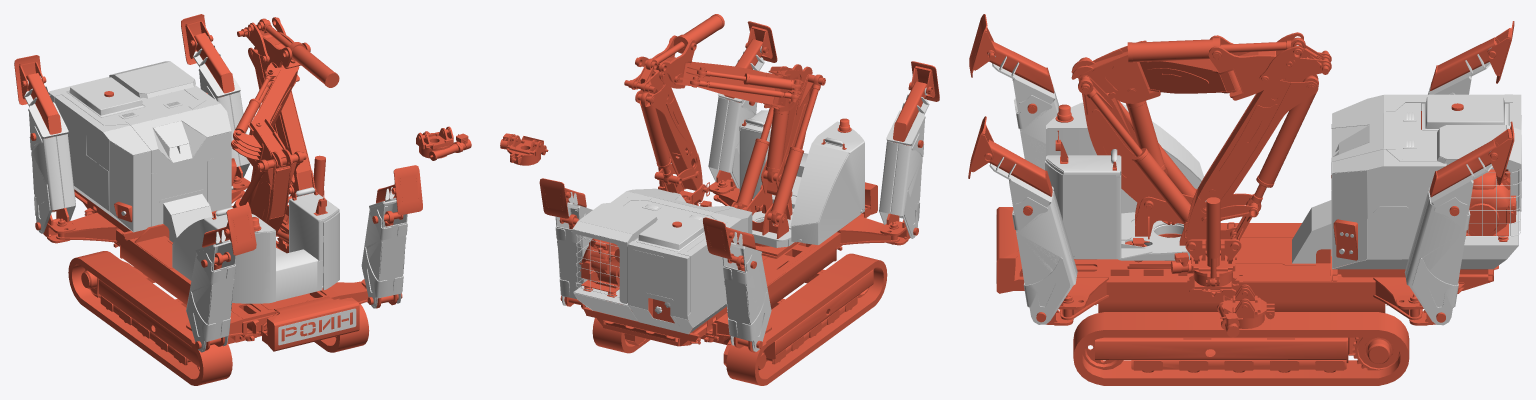
The model's file is robot.fbx.
3 views of the same model, side by side, from view 1: azimuth 30°, elevation 25°; view 2: azimuth 150°, elevation 25°; view 3: azimuth 270°, elevation 25° (orthographic). The views are drawn at different scales.
Parts seen in each view (by area): view 1: Ходовая робота ВГУ fixed, \xce\xef\xee\xf0\xe0 c\xf2\xf0\xe5\xeb\xfb fixed, Гусеница2 fixed, \u0111\u03ae105.100.510.007 fixed, \u0111\u03ae105.100.510.006 fixed, \u0111\u03ae105.100.510.005 fixed, \u0111\u03ae105.100.510.004 fixed, 2 fixed, \u0111\u03ae105.200.420.001 fixed, \u0111\u03ae105.200.330.001 fixed, \u0111\u03ae105.200.320.001 fixed, \u0111\u03ae105.100.591.004 fixed (+11 smaller); view 2: Ходовая робота ВГУ fixed, \xce\xef\xee\xf0\xe0 c\xf2\xf0\xe5\xeb\xfb fixed, Гусеница2 fixed, \u0111\u03ae105.100.510.006 fixed, \u0111\u03ae105.100.510.007 fixed, \u0111\u03ae105.100.510.005 fixed, \u0111\u03ae105.200.420.001 fixed, \u0111\u03ae105.100.510.004 fixed, \u0111\u03ae105.200.320.001 fixed, 2 fixed, 7 fixed, 15 fixed.001 (+19 smaller); view 3: Ходовая робота ВГУ fixed, Гусеница1 fixed, \xce\xef\xee\xf0\xe0 c\xf2\xf0\xe5\xeb\xfb fixed, \u0111\u03ae105.100.510.004 fixed, \u0111\u03ae105.100.510.005 fixed, \u0111\u03ae105.200.420.001 fixed, \u0111\u03ae105.100.510.006 fixed, 2 fixed, \u0111\u03ae105.200.320.001 fixed, \u0111\u03ae105.200.330.001 fixed, \u0111\u03ae105.200.310.001 fixed, \u0111\u03ae105.100.510.007 fixed (+22 smaller).
Part boxes in pixels (x1,y1,x2,y2): Ходовая робота ВГУ fixed: (48, 61, 368, 367); \xce\xef\xee\xf0\xe0 c\xf2\xf0\xe5\xeb\xfb fixed: (172, 187, 339, 303); Гусеница2 fixed: (68, 251, 232, 385); \u0111\u03ae105.100.510.007 fixed: (21, 73, 75, 233); \u0111\u03ae105.100.510.006 fixed: (186, 227, 236, 352); \u0111\u03ae105.100.510.005 fixed: (361, 184, 407, 308); \u0111\u03ae105.100.510.004 fixed: (189, 32, 250, 177); 2 fixed: (249, 152, 306, 233); \u0111\u03ae105.200.420.001 fixed: (248, 47, 315, 197); \u0111\u03ae105.200.330.001 fixed: (232, 119, 292, 169); \u0111\u03ae105.200.320.001 fixed: (249, 59, 299, 134); \u0111\u03ae105.100.591.004 fixed: (391, 165, 422, 215); Ходовая робота ВГУ fixed: (572, 180, 899, 369); \xce\xef\xee\xf0\xe0 c\xf2\xf0\xe5\xeb\xfb fixed: (731, 110, 864, 247); Гусеница2 fixed: (726, 253, 887, 385); \u0111\u03ae105.100.510.006 fixed: (879, 81, 931, 238); \u0111\u03ae105.100.510.007 fixed: (722, 227, 771, 351); \u0111\u03ae105.100.510.005 fixed: (708, 39, 767, 188); \u0111\u03ae105.200.420.001 fixed: (635, 84, 702, 190); \u0111\u03ae105.100.510.004 fixed: (555, 188, 592, 307); \u0111\u03ae105.200.320.001 fixed: (682, 61, 783, 106); 2 fixed: (761, 74, 825, 195); 7 fixed: (765, 107, 789, 183); 15 fixed.001: (500, 133, 548, 165); Ходовая робота ВГУ fixed: (996, 94, 1521, 372); Гусеница1 fixed: (1073, 312, 1409, 385); \xce\xef\xee\xf0\xe0 c\xf2\xf0\xe5\xeb\xfb fixed: (1045, 102, 1206, 262); \u0111\u03ae105.100.510.004 fixed: (1404, 139, 1498, 325); \u0111\u03ae105.100.510.005 fixed: (985, 139, 1077, 324); \u0111\u03ae105.200.420.001 fixed: (1186, 74, 1318, 241); \u0111\u03ae105.100.510.006 fixed: (988, 40, 1058, 169); 2 fixed: (1080, 57, 1167, 204); \u0111\u03ae105.200.320.001 fixed: (1139, 59, 1240, 93); \u0111\u03ae105.200.330.001 fixed: (1071, 40, 1160, 103); \u0111\u03ae105.200.310.001 fixed: (1208, 35, 1295, 100); \u0111\u03ae105.100.510.007 fixed: (1428, 37, 1499, 94).
Bounding box in the file's own units: 321 × 239 × 354.
